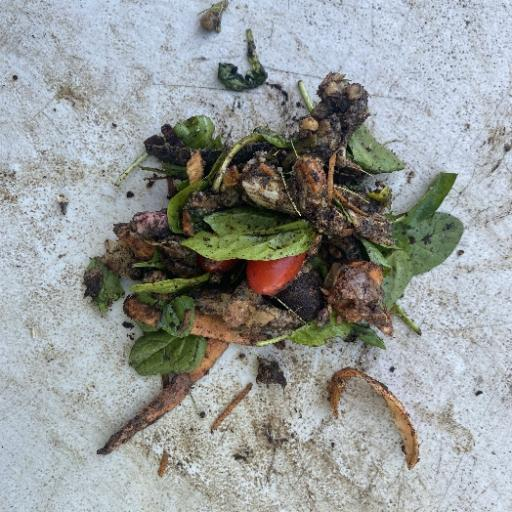Waste: (81, 61, 463, 465), (324, 365, 420, 471)
